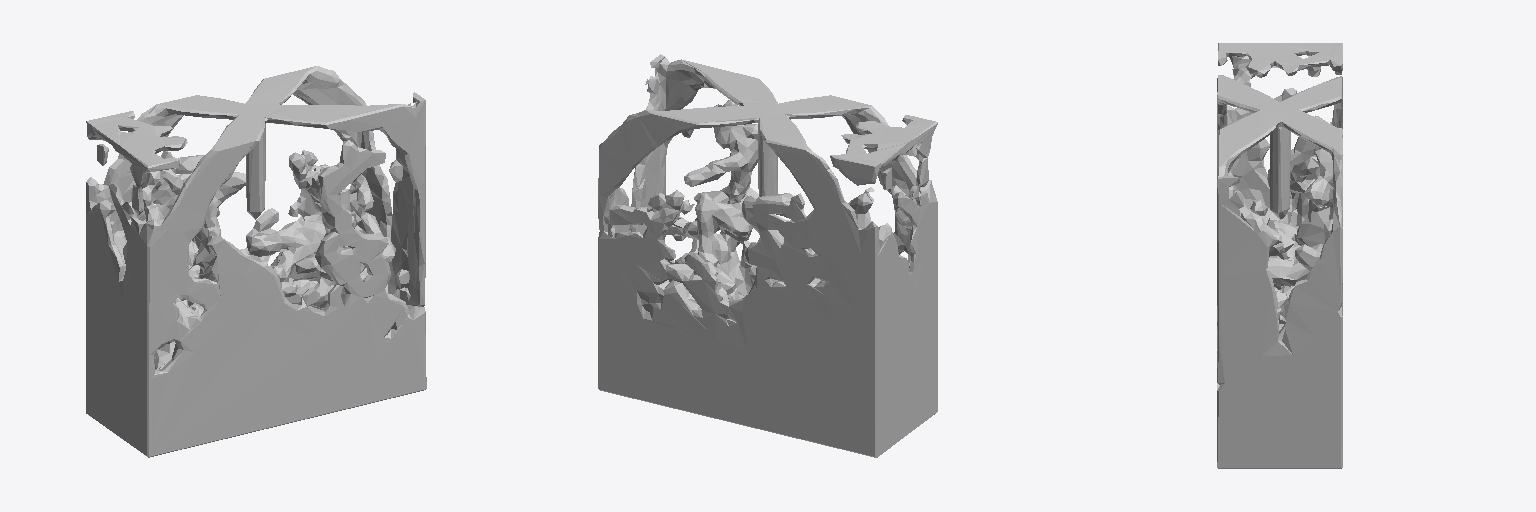
3 renders of one model, left to right at view 1: azimuth 30°, elevation 25°; view 2: azimuth 150°, elevation 25°; view 3: azimuth 270°, elevation 25°, orthographic.
Visible parts, largest first — view 1: Liquid_Domain; view 2: Liquid_Domain; view 3: Liquid_Domain.
Part boxes in pixels (bbox=[...]): Liquid_Domain: bbox=[86, 66, 426, 457]; Liquid_Domain: bbox=[598, 54, 937, 457]; Liquid_Domain: bbox=[1217, 43, 1342, 468].
Bounding box in the file's own units: 884 × 884 × 345.